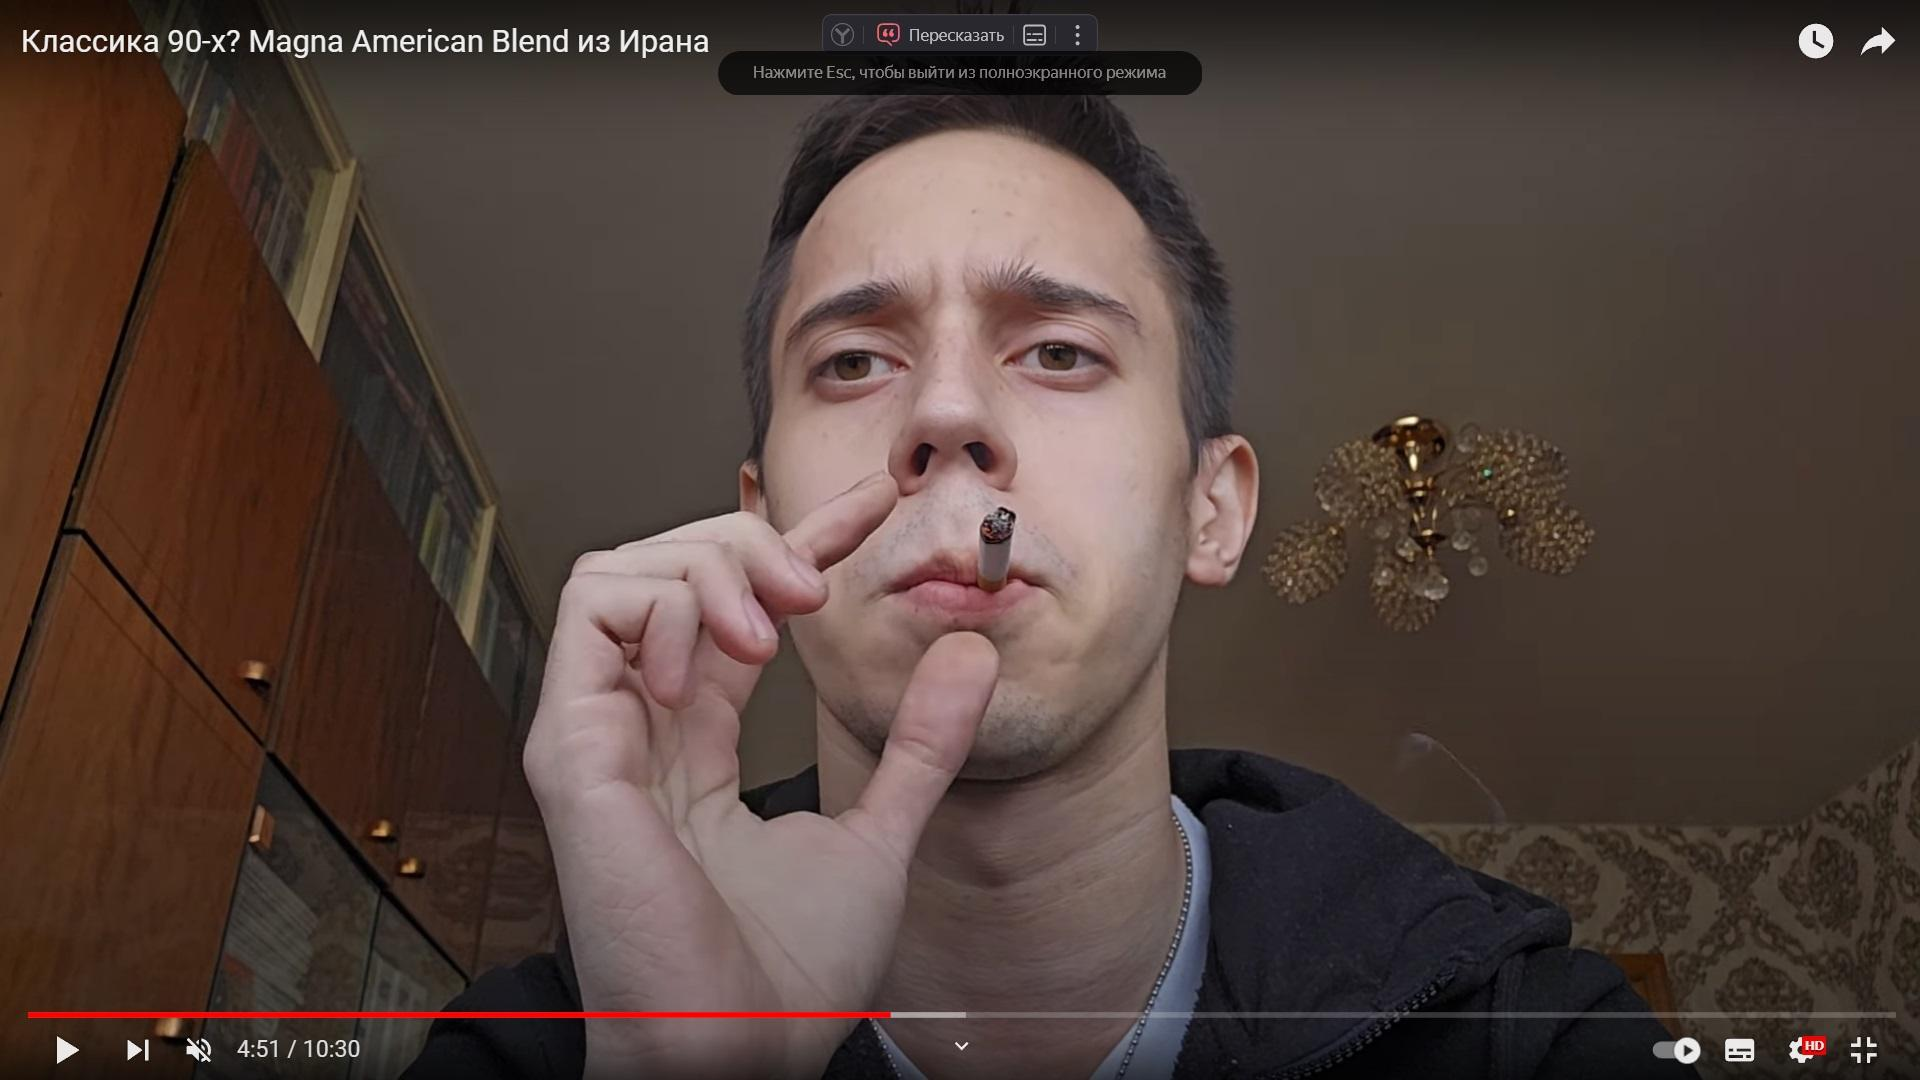cigarette: (978, 506, 1017, 592)
